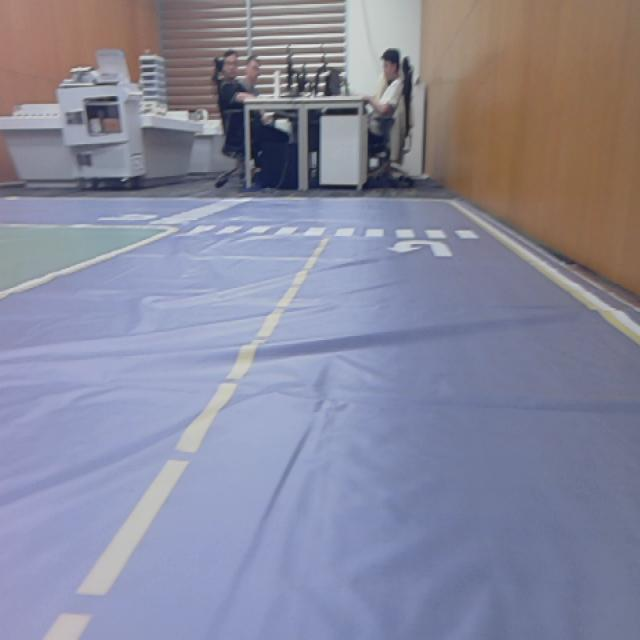left_lane: (43, 238, 331, 640)
right_lane: (449, 201, 640, 346)
